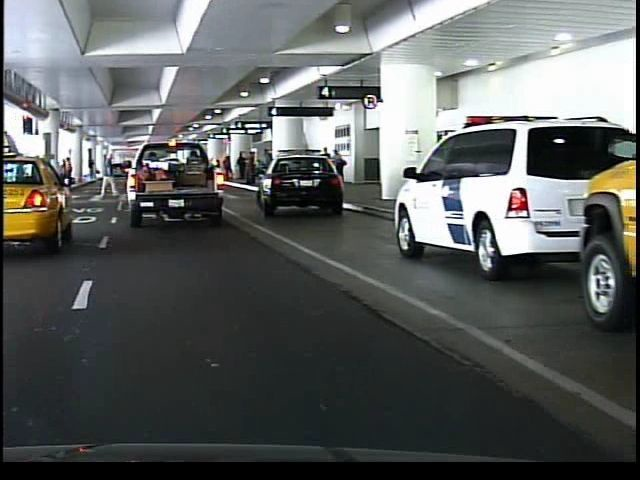person: (94, 152, 118, 200)
